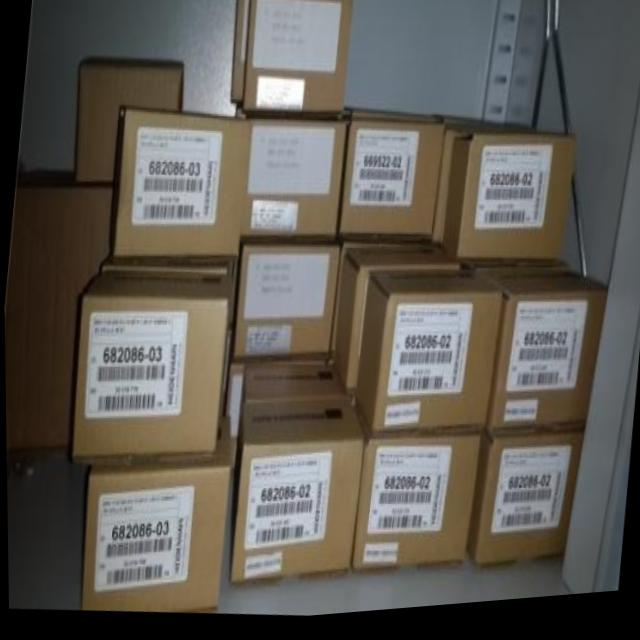box: (70, 269, 227, 467), (4, 180, 117, 454), (79, 417, 228, 617), (228, 401, 364, 589), (354, 277, 500, 441), (114, 107, 251, 257), (485, 271, 605, 439), (331, 255, 458, 395), (349, 441, 481, 575), (441, 144, 577, 269), (466, 437, 583, 569), (231, 0, 353, 118), (338, 114, 445, 244), (73, 62, 183, 188), (239, 116, 345, 242), (231, 249, 338, 364), (241, 366, 346, 408)
